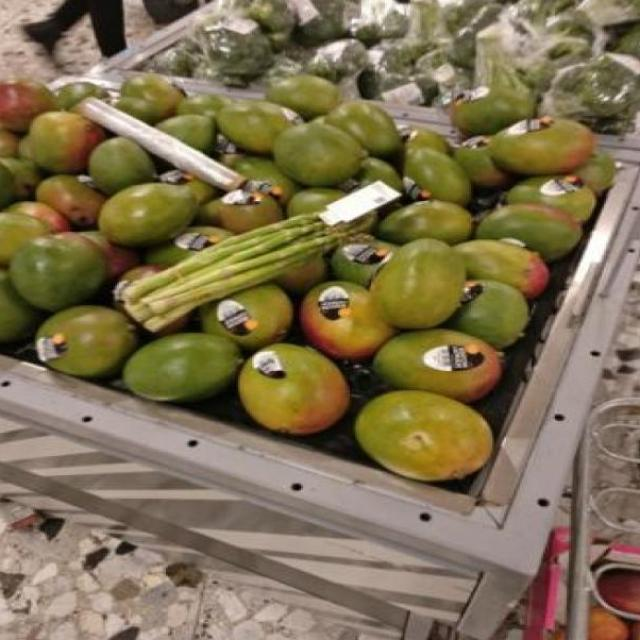Asparagus: (113, 193, 365, 330)
